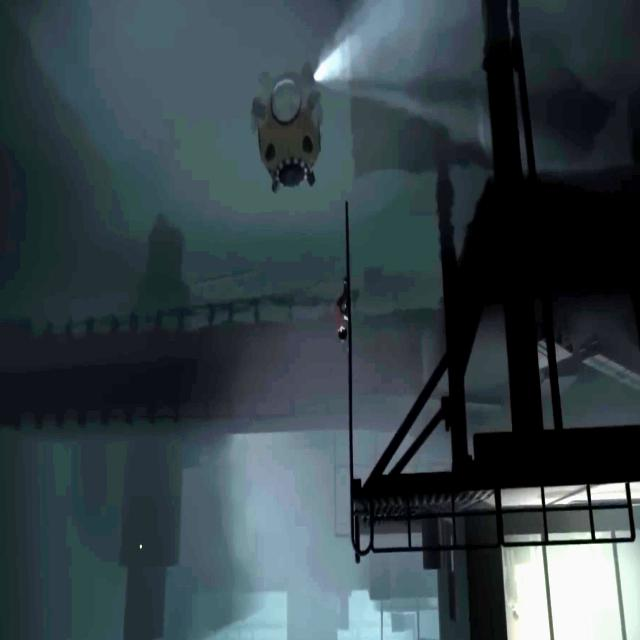boy: (332, 274, 349, 344)
human: (527, 546, 547, 621), (505, 548, 522, 621)
structure: (0, 293, 328, 348), (0, 401, 352, 430)
submarine: (249, 62, 323, 193)
